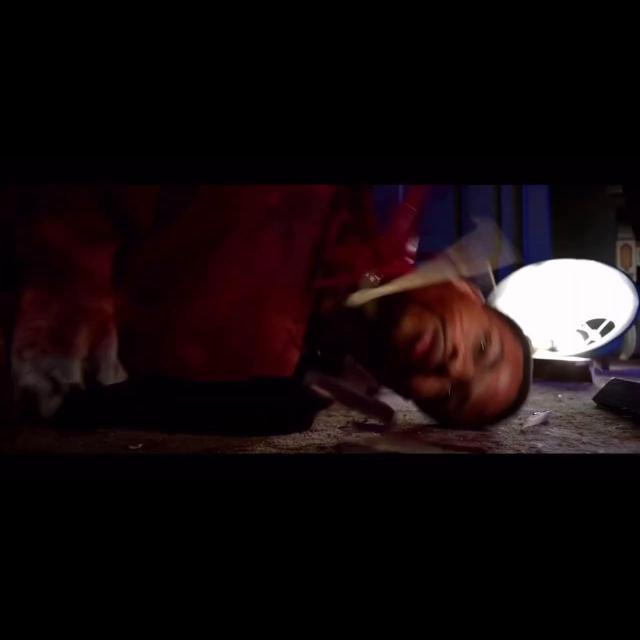blood: (9, 216, 136, 368), (323, 186, 428, 288)
